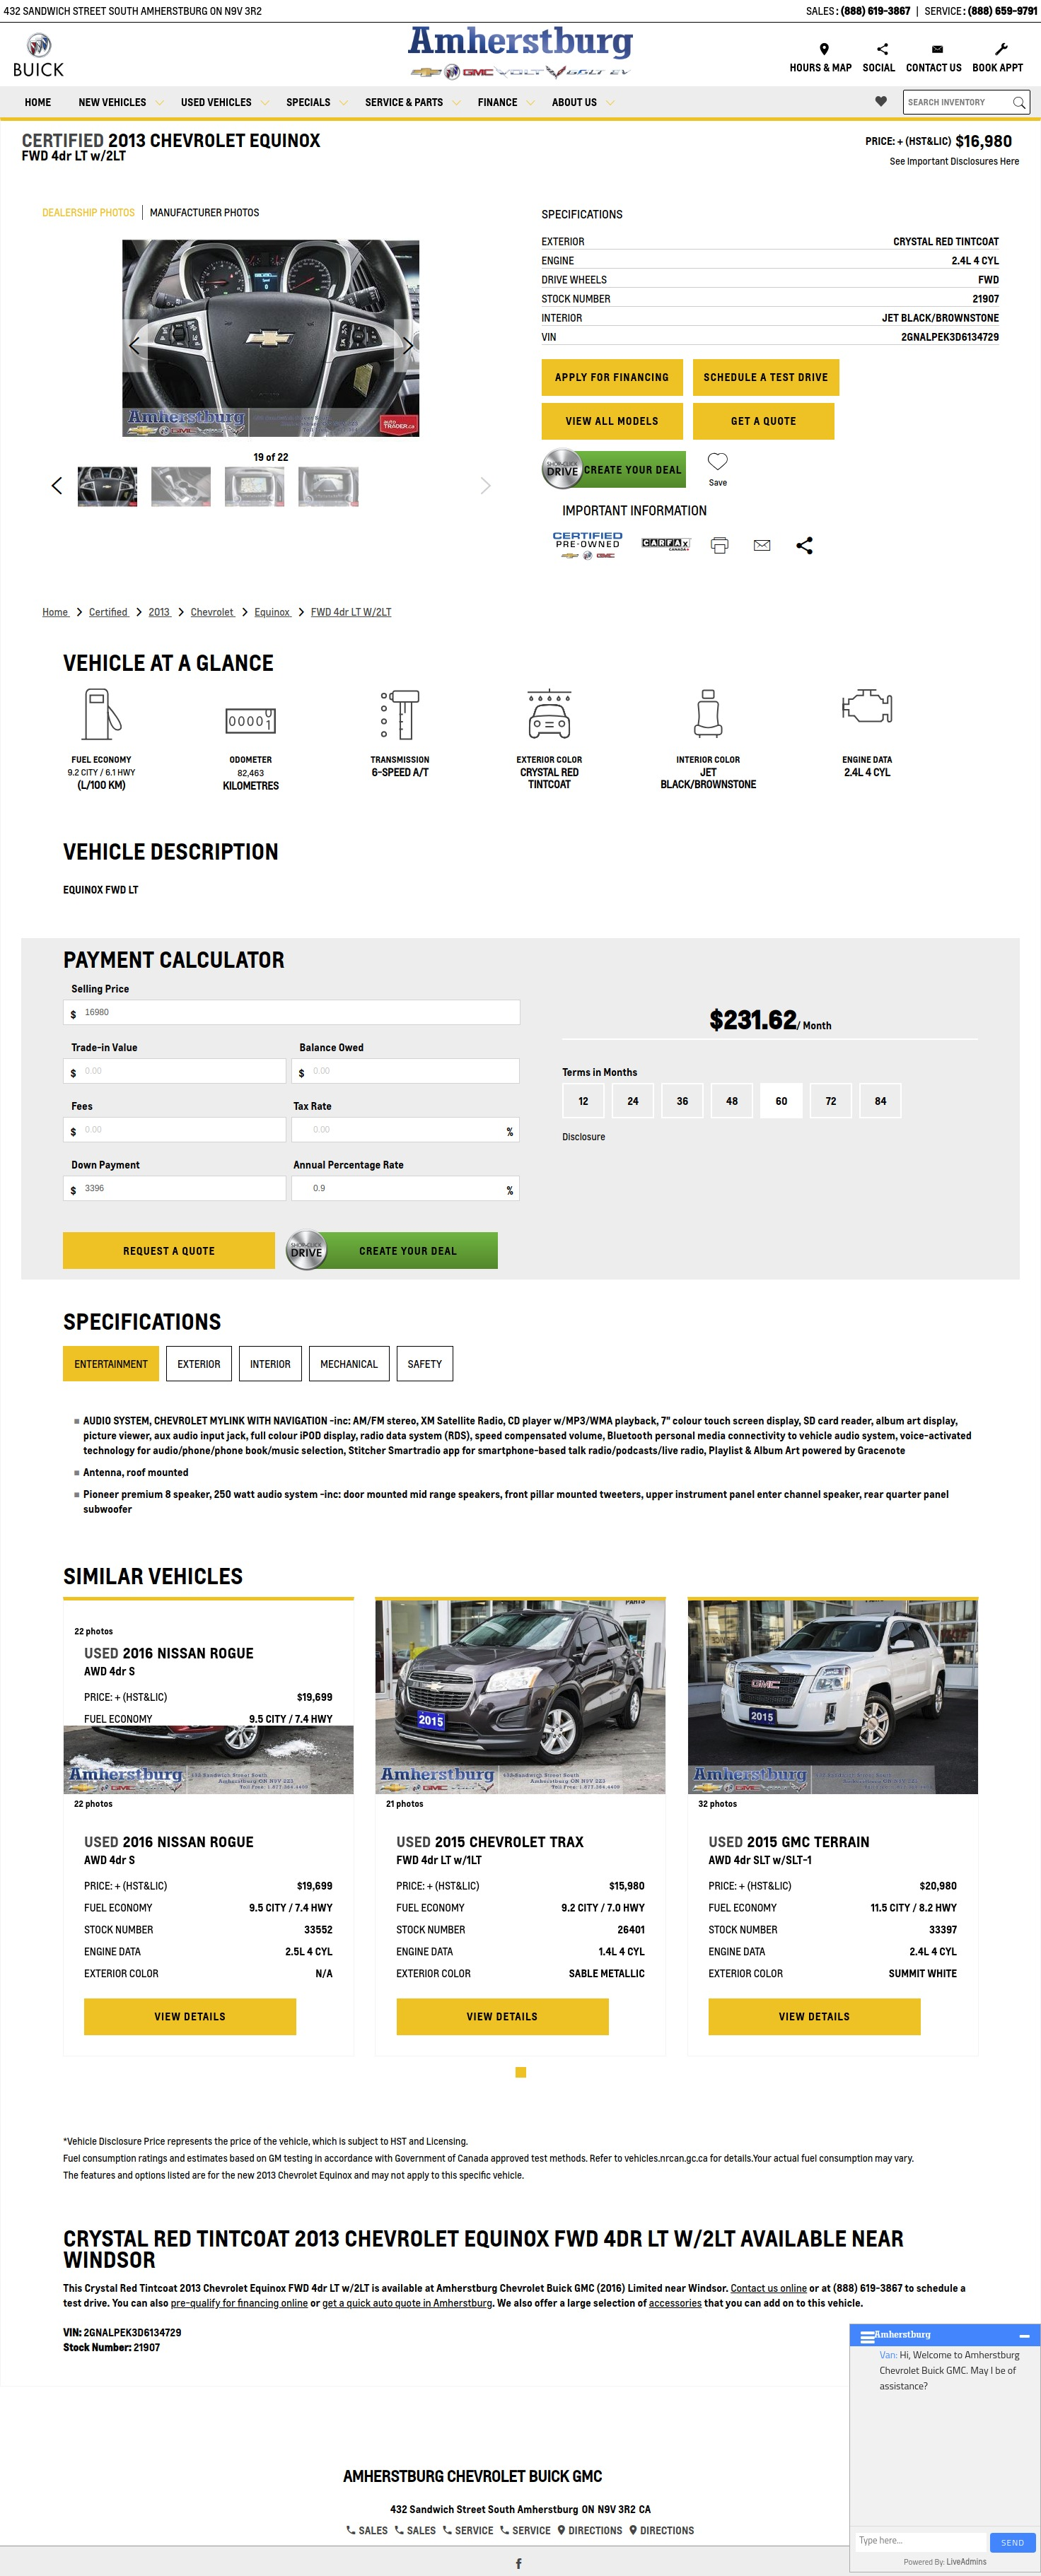car: (479, 476, 495, 498)
